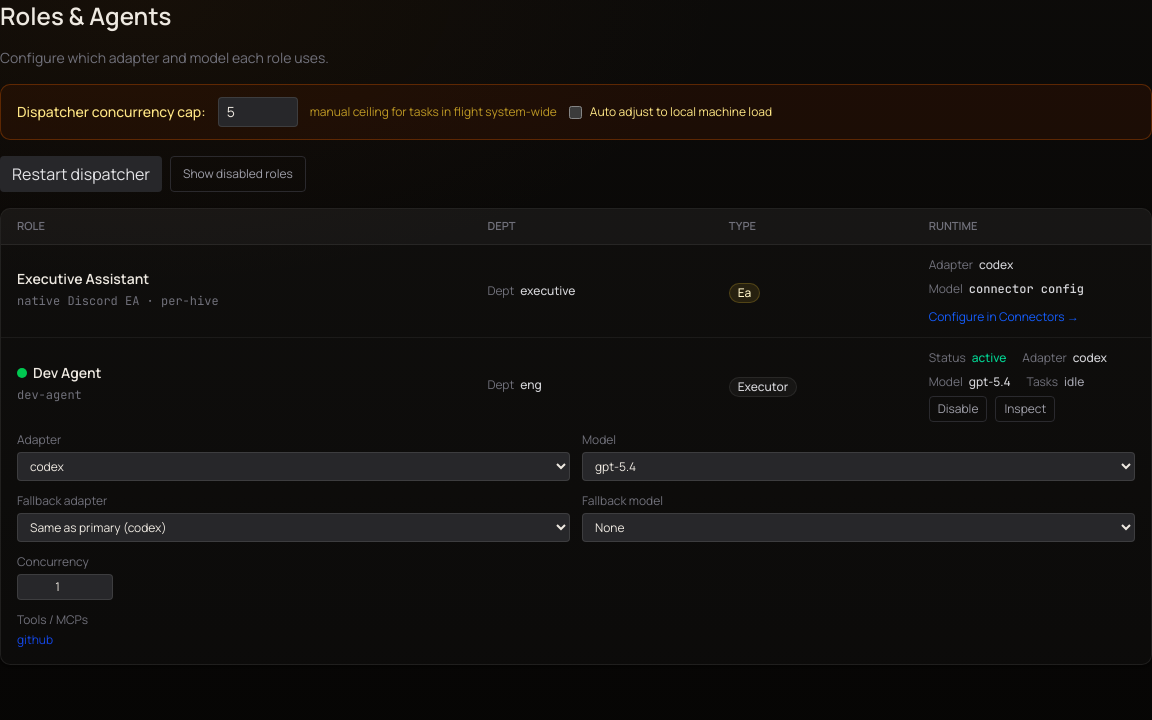
Test: RolesPage › renders populated observability panel with agent and task level data
This screenshot has width=1152, height=720.
Expected: the text "Dev Agent" is shown, [17,363,102,383]
Click the button "Inspect" at (1025, 409), box [995,396,1055,422]
(page scrolled)
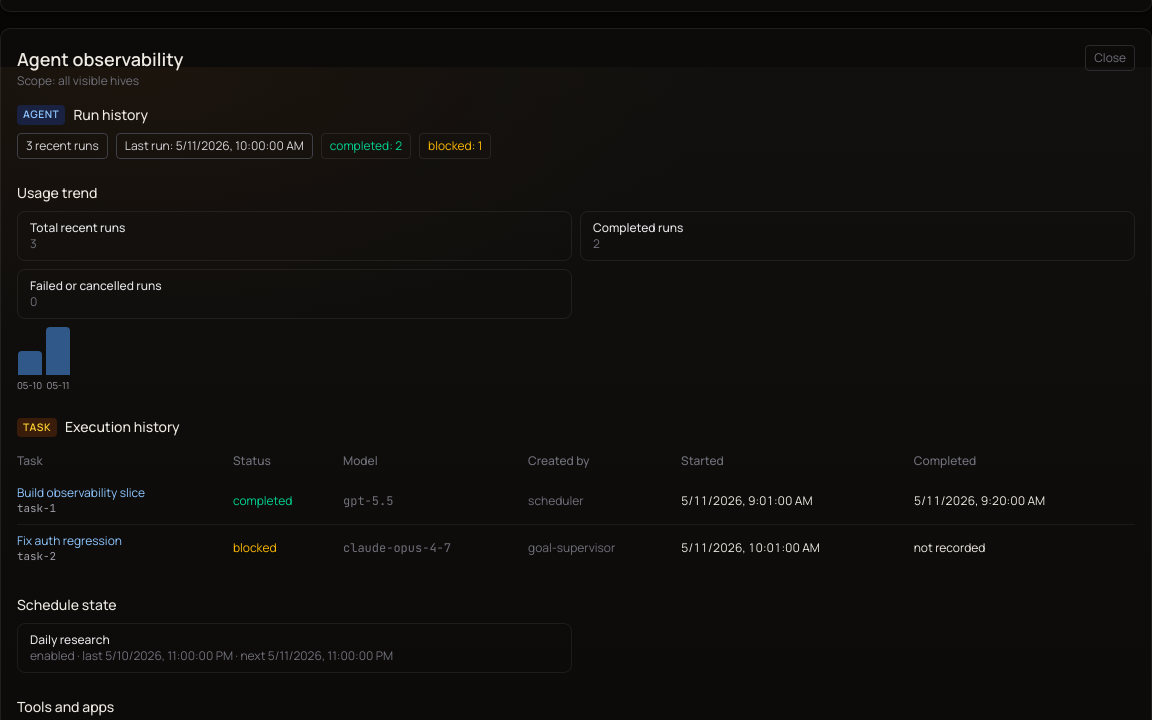
Expected: the text "Agent" is shown, [17,105,65,125]
Expected: the text "3 recent runs" is shown, [17,133,108,159]
Expected: the text "completed: 2" is shown, [321,133,411,159]
